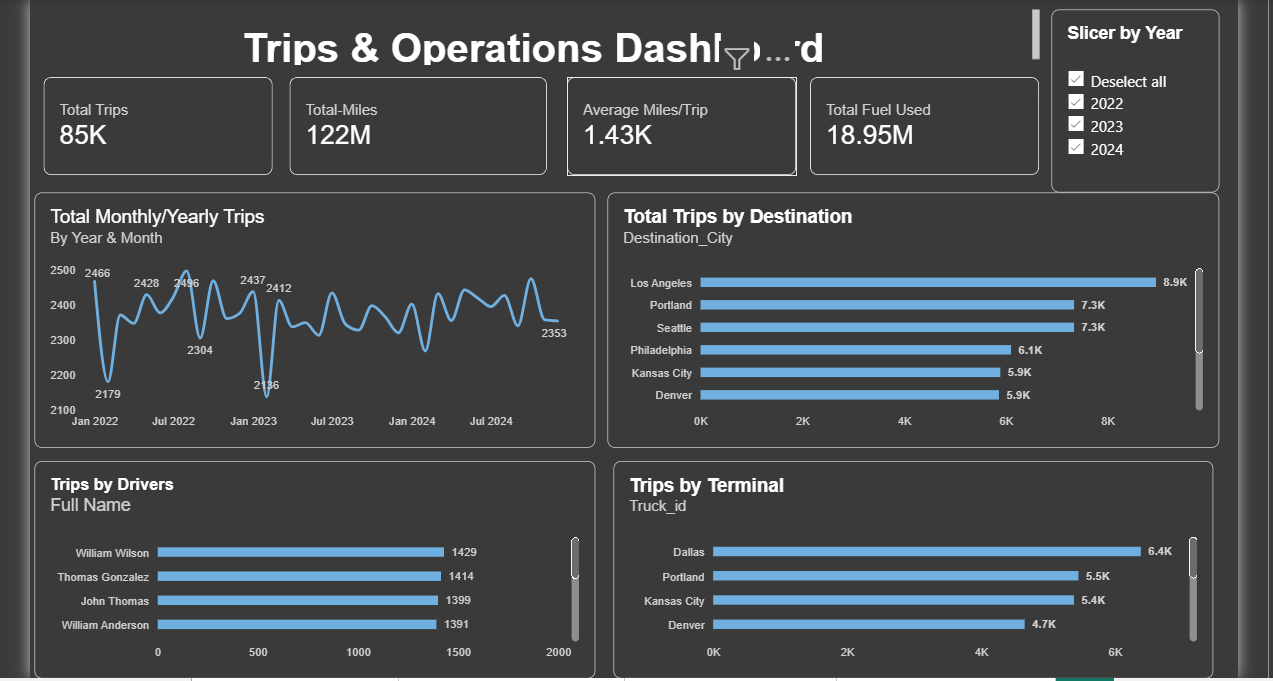

The dashboard page shown, as its layout file describes it:
{"tool":"powerbi","page":{"name":"Trips & Operations","canvas":[1280,720],"ordinal":2},"visuals":[{"type":"cardVisual","fields":{"Data":["customers.Total-Miles"]},"box":[275.2,82.7,273.6,105],"z":0},{"type":"cardVisual","fields":{"Data":["customers.Total Fuel Used"]},"box":[827.1,82.7,243.4,105],"z":1000},{"type":"cardVisual","fields":{"Data":["customers.Total Trips"]},"box":[14.3,82.7,243.4,105],"z":2000},{"type":"lineChart","title":"Total Monthly/Yearly Trips","fields":{"Category":["date_dim.YearMonth"],"Y":["customers.Total Trips"]},"box":[4.8,205.2,594.9,270.4],"z":4000},{"type":"clusteredBarChart","title":"Total Trips by Destination","fields":{"Category":["routes.destination_city"],"Y":["customers.Total Trips"]},"box":[612.4,205.2,649,270.4],"z":5000},{"type":"clusteredBarChart","title":"Trips by Drivers","fields":{"Category":["drivers.Full Name"],"Y":["customers.Total Trips"]},"box":[4.8,489.9,594.9,230.6],"z":6000},{"type":"textbox","box":[4.8,11.1,1065.7,58.9],"z":7000},{"type":"cardVisual","fields":{"Data":["customers.Average Miles per Trip"]},"box":[569.4,82.7,243.4,105],"z":8000},{"type":"clusteredBarChart","title":"Trips by Terminal","fields":{"Category":["trucks.home_terminal"],"Y":["customers.Total Trips"]},"box":[618.7,489.9,636.2,230.6],"z":9000},{"type":"listSlicer","title":"Slicer by Year","fields":{"Values":["date_dim.Year"]},"box":[1083.2,11.1,178.1,194.1],"z":10000}]}

Visuals, with their boxes on the page's 1280x720 design canvas (x1, y1, x2, y2). These are canvas units, not pixel positions in the 1273x681 screenshot, which may show the page scaled, cropped or inside an application window:
cardVisual - customers.Total-Miles: [x1=275, y1=83, x2=549, y2=188]
cardVisual - customers.Total Fuel Used: [x1=827, y1=83, x2=1070, y2=188]
cardVisual - customers.Total Trips: [x1=14, y1=83, x2=258, y2=188]
"Total Monthly/Yearly Trips" lineChart: [x1=5, y1=205, x2=600, y2=476]
"Total Trips by Destination" clusteredBarChart: [x1=612, y1=205, x2=1261, y2=476]
"Trips by Drivers" clusteredBarChart: [x1=5, y1=490, x2=600, y2=720]
textbox: [x1=5, y1=11, x2=1070, y2=70]
cardVisual - customers.Average Miles per Trip: [x1=569, y1=83, x2=813, y2=188]
"Trips by Terminal" clusteredBarChart: [x1=619, y1=490, x2=1255, y2=720]
"Slicer by Year" listSlicer: [x1=1083, y1=11, x2=1261, y2=205]
